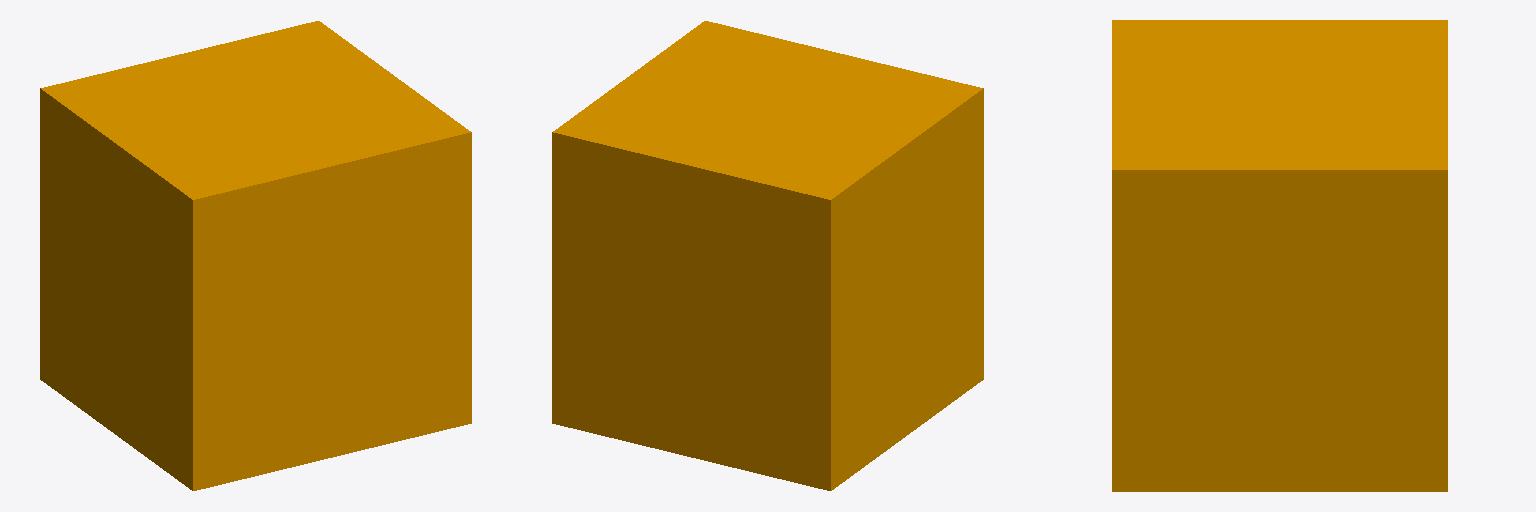
URDF robot description (object):
<robot name="object">
  <link name="object">
    <visual>
      <origin xyz="0 0 0" />
      <geometry>
        <box size="0.08000000000000002 0.07600000000000001 0.08" />
      </geometry>
    </visual>

    <collision>
      <origin xyz="0 0 0" />
      <geometry>
        <box size="0.08000000000000002 0.07600000000000001 0.08" />
      </geometry>
    </collision>

    <inertial>
      <mass value="0.05" />
      <inertia ixx="0.0001" ixy="0.0" ixz="0.0" iyy="0.0001" iyz="0.0" izz="0.0001" />
    </inertial>
  </link>
</robot>

--- Render facts (derived) ---
Views: 3 orthographic renders of the robot side by side, from view 1: azimuth 30°, elevation 25°; view 2: azimuth 150°, elevation 25°; view 3: azimuth 270°, elevation 25°.
Model object with 1 links and 0 joints (none), rooted at object, posed all joints at 0.
Visible links, largest first — view 1: object; view 2: object; view 3: object.
Boxes of the visible links, x1,y1,x2,y2 form: object: (40, 21, 471, 490); object: (552, 21, 983, 490); object: (1112, 20, 1447, 491).
Size in the robot's own frame: 0.08 by 0.076 by 0.08 metres.
Geometry: primitives only (box / cylinder / sphere), no mesh files.